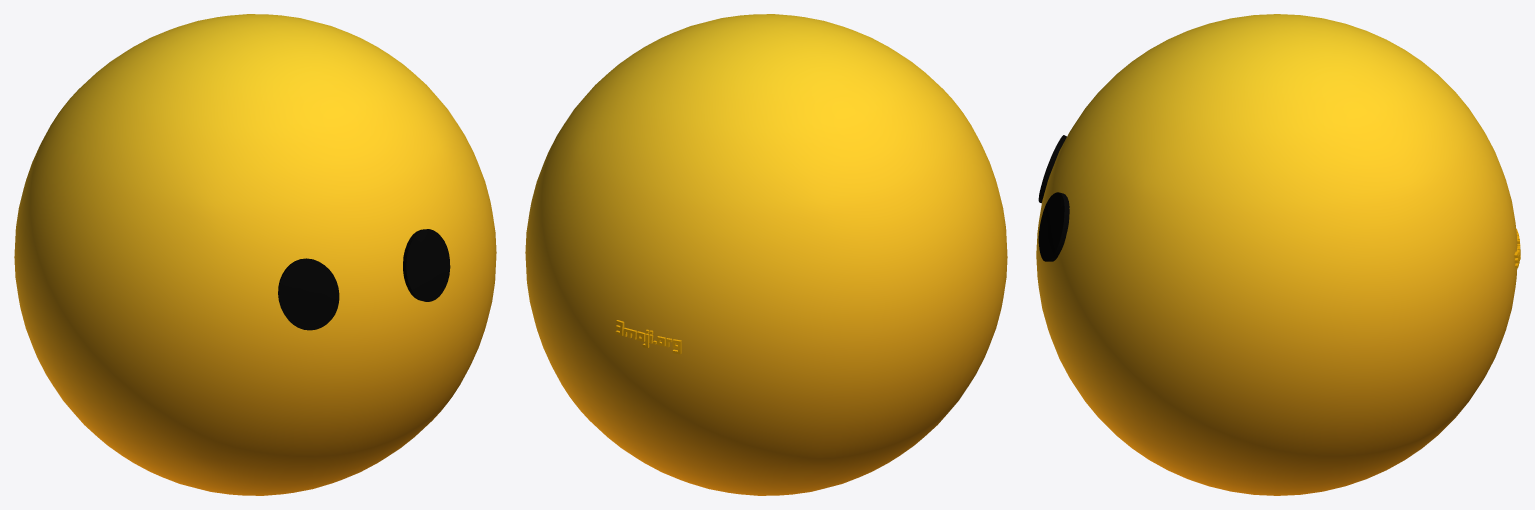
The model's file is face_without_mouth.gltf.
3 renders of one model, left to right at view 1: azimuth 30°, elevation 25°; view 2: azimuth 150°, elevation 25°; view 3: azimuth 270°, elevation 25°, orthographic.
Parts seen in each view (by area): view 1: face_without_mouth; view 2: face_without_mouth; view 3: face_without_mouth.
Boxes of the visible parts, box(x1,y1,x2,y2) form: face_without_mouth: box(14, 14, 496, 495); face_without_mouth: box(525, 14, 1007, 495); face_without_mouth: box(1036, 14, 1520, 495).
Bounding box in the file's own units: 1.69 × 1.69 × 1.7.
1 material, 1 textured.
